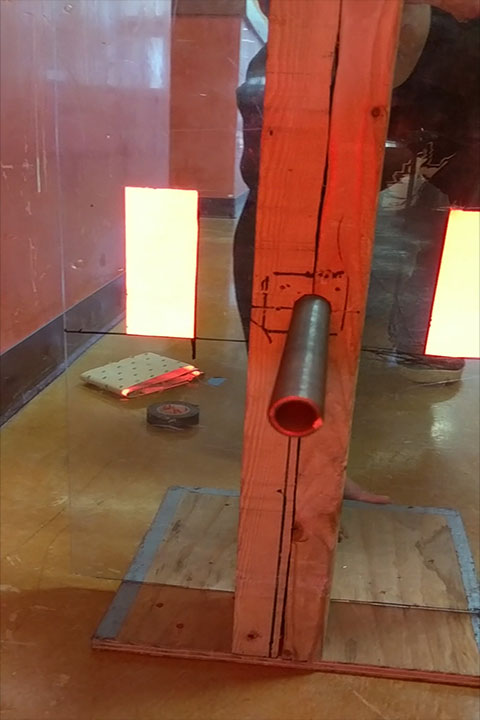gear: (124, 186, 198, 341), (424, 208, 480, 359)
